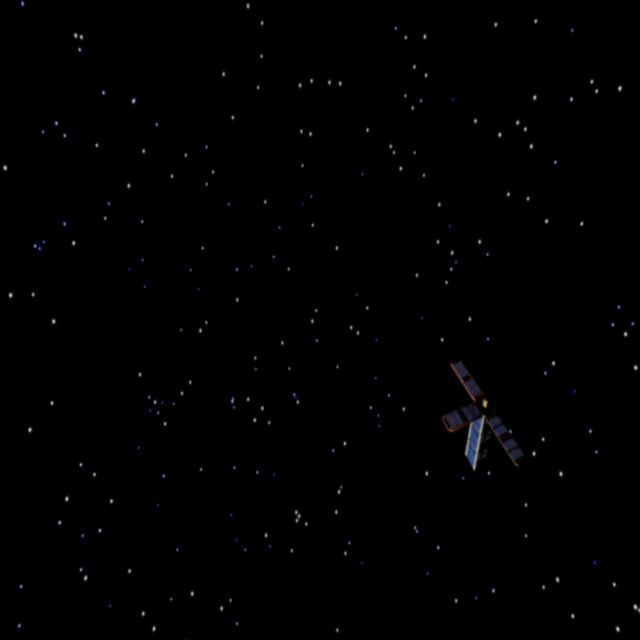medium_debris: (432, 355, 547, 501)
